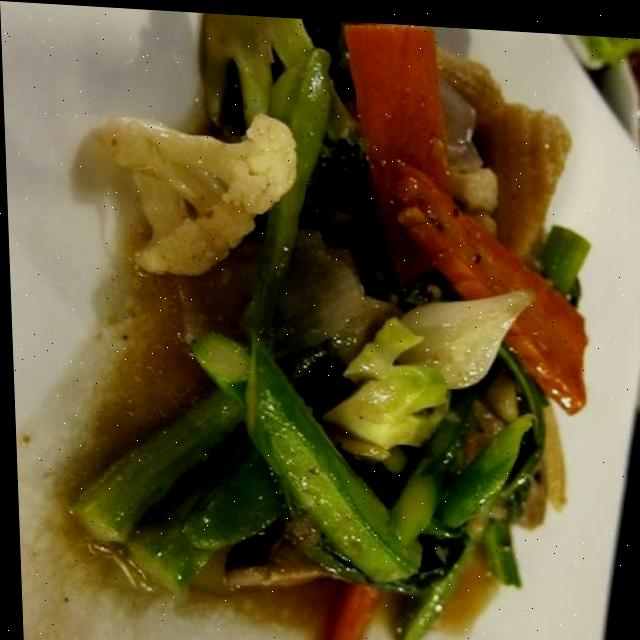蔬菜料理: (18, 22, 614, 622)
